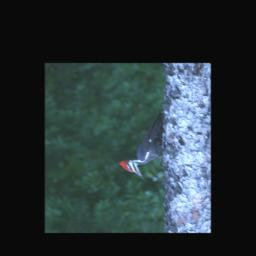Woodpecker: (119, 108, 167, 182)
